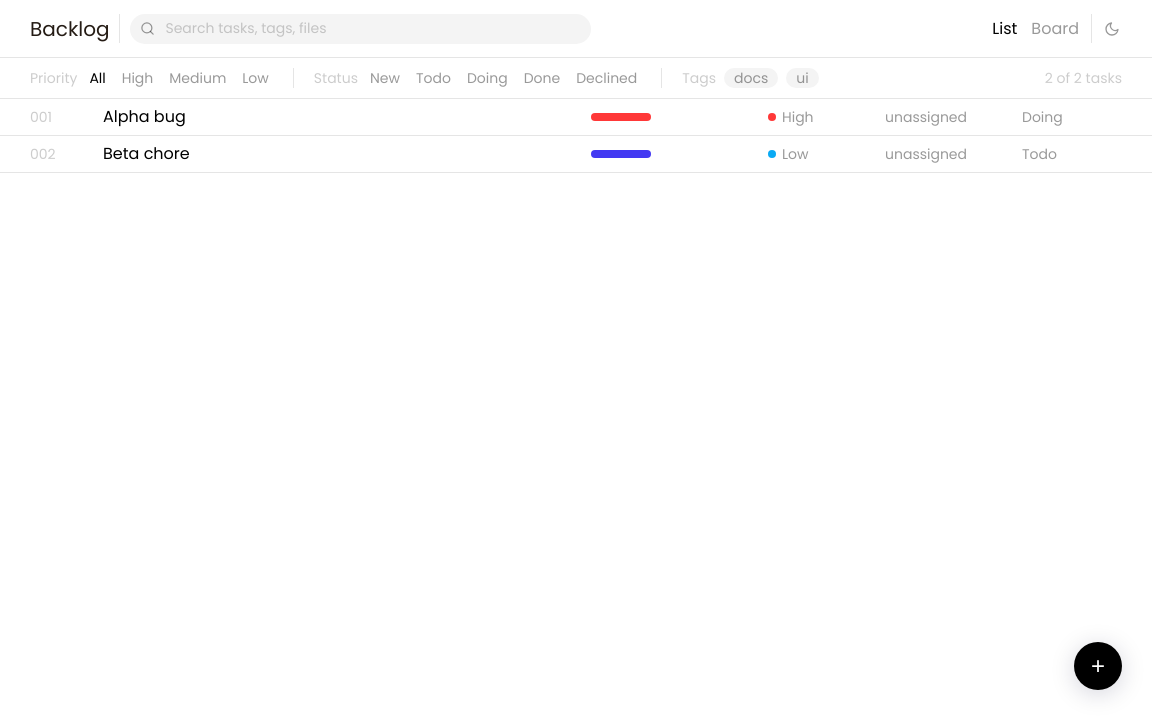
Test case: App › sends only the assignee field when it is edited in place
Step 1. Click the button "001 Alpha bug High unassigned Doing" → click(144, 116), box [0, 99, 1151, 136]
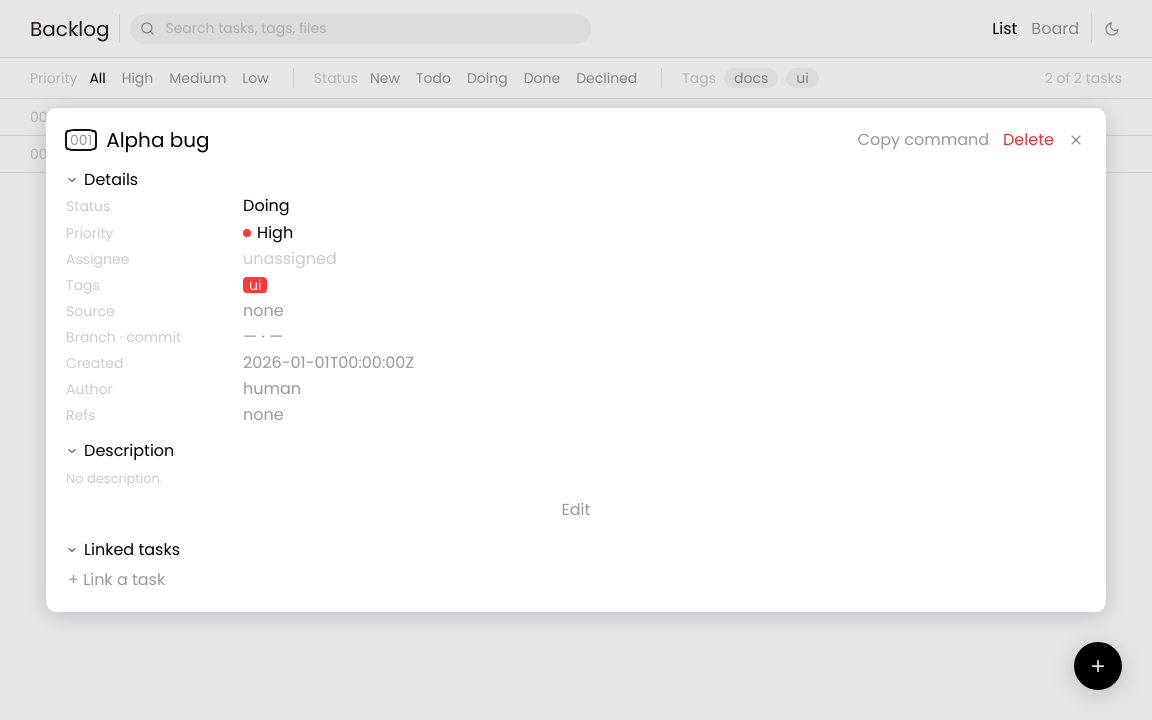
Step 2. Click the button with aria-label "Assignee" → click(290, 259), box [239, 249, 341, 269]
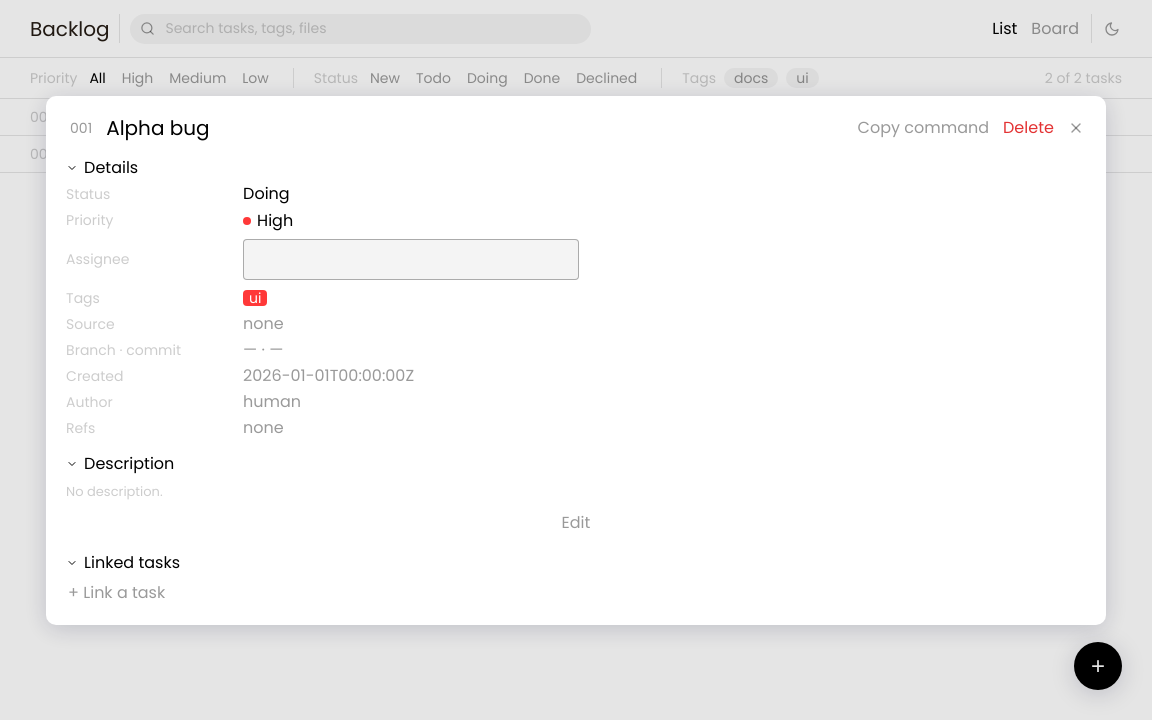
Step 3. Type "weldnor" into the field named "Assignee" → (411, 259), box [243, 238, 579, 280]
Then press Enter
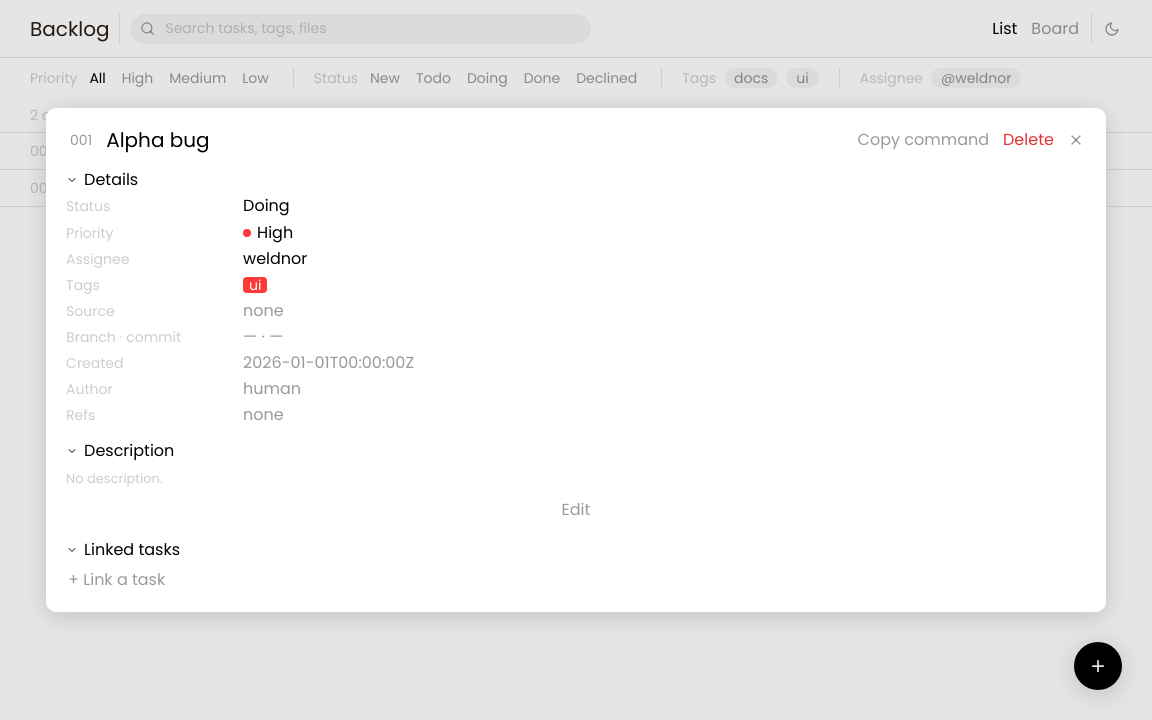
Now the button with aria-label "Assignee" reads "weldnor", box [239, 249, 311, 269]
